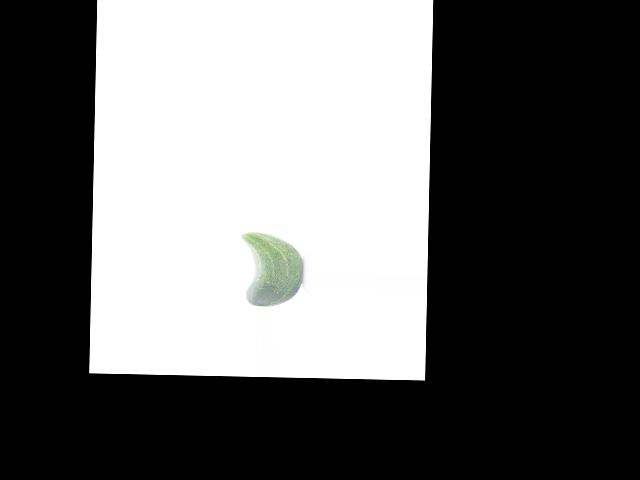cucumber: (240, 231, 304, 307)
